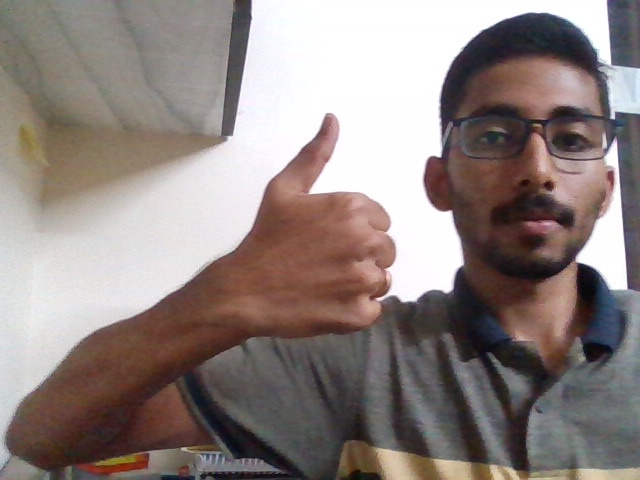Yes: (209, 94, 412, 370)
